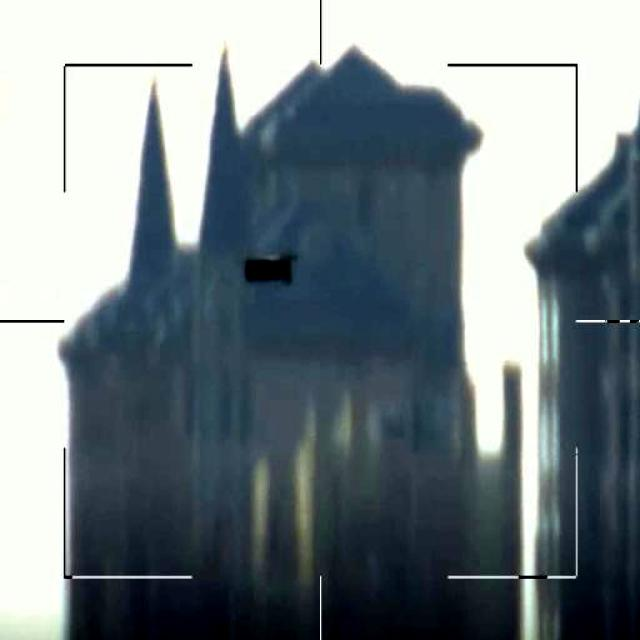bird: (244, 259, 291, 289)
